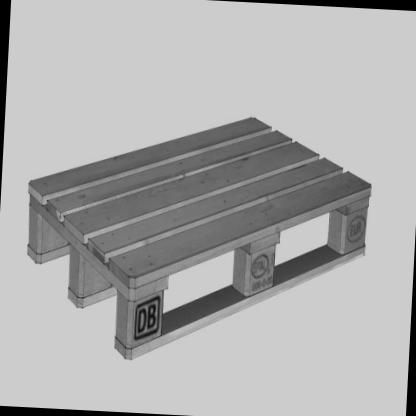BoxFace: (27, 115, 370, 357)
